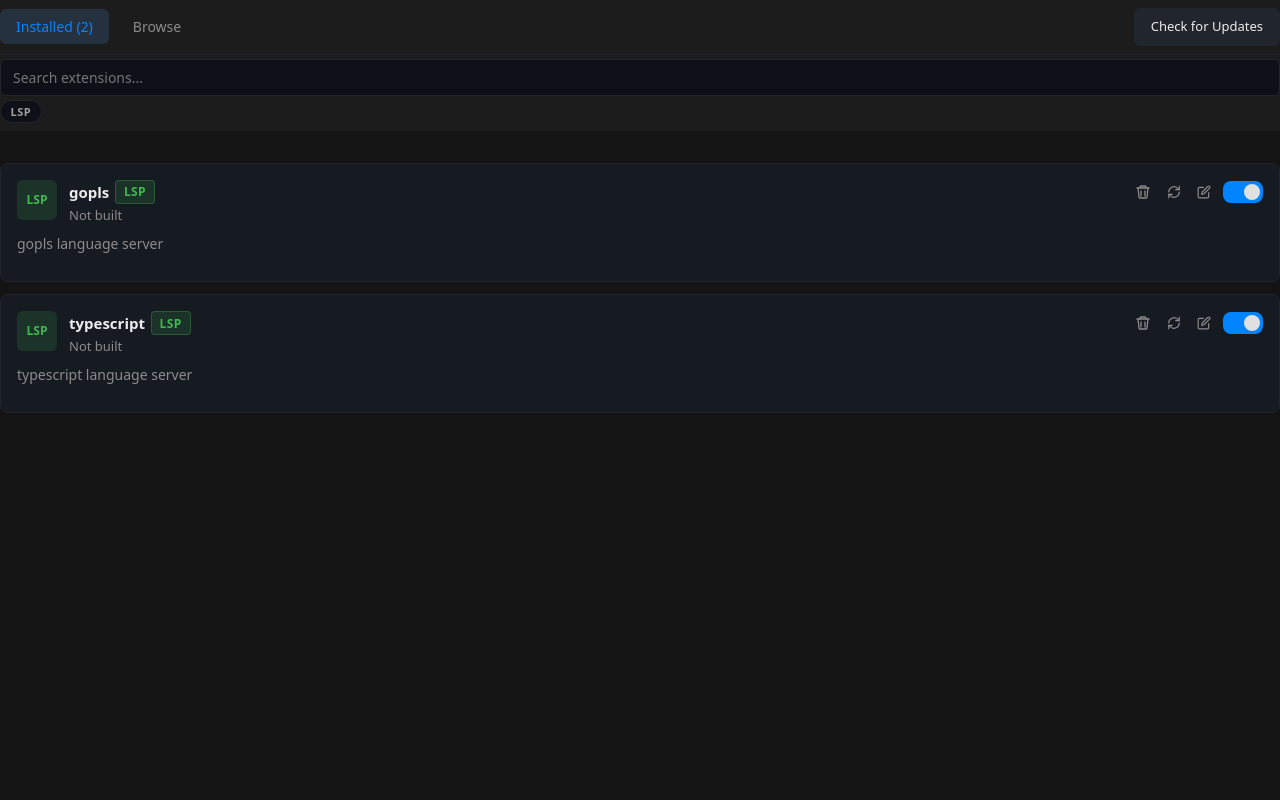
Scenario: Settings → Extensions: the dialog that names the directory › revokes by clearing the field and saving — an empty path is a decision
Expected: the text "gopls" is shown, left=69, top=180, right=109, bottom=203
Click the 1st button named "Edit" at (1204, 192), box left=1193, top=181, right=1215, bottom=203
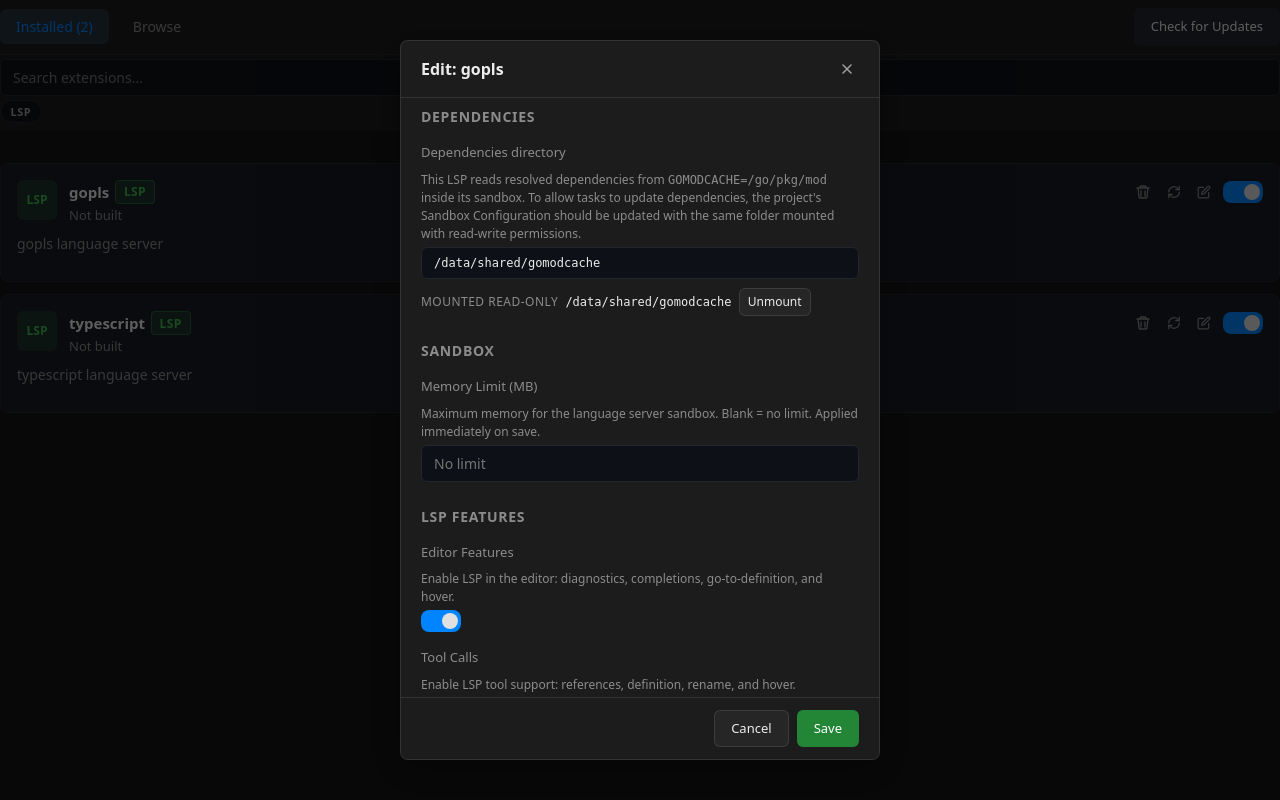
Expected: the field with id "edit-dep-path" is shown, left=421, top=246, right=859, bottom=278
Expected: the text with class "ext-dep-path" reads "/data/shared/gomodcache", left=565, top=295, right=732, bottom=309
Click the button "Unmount" at (775, 302), box left=739, top=288, right=810, bottom=316
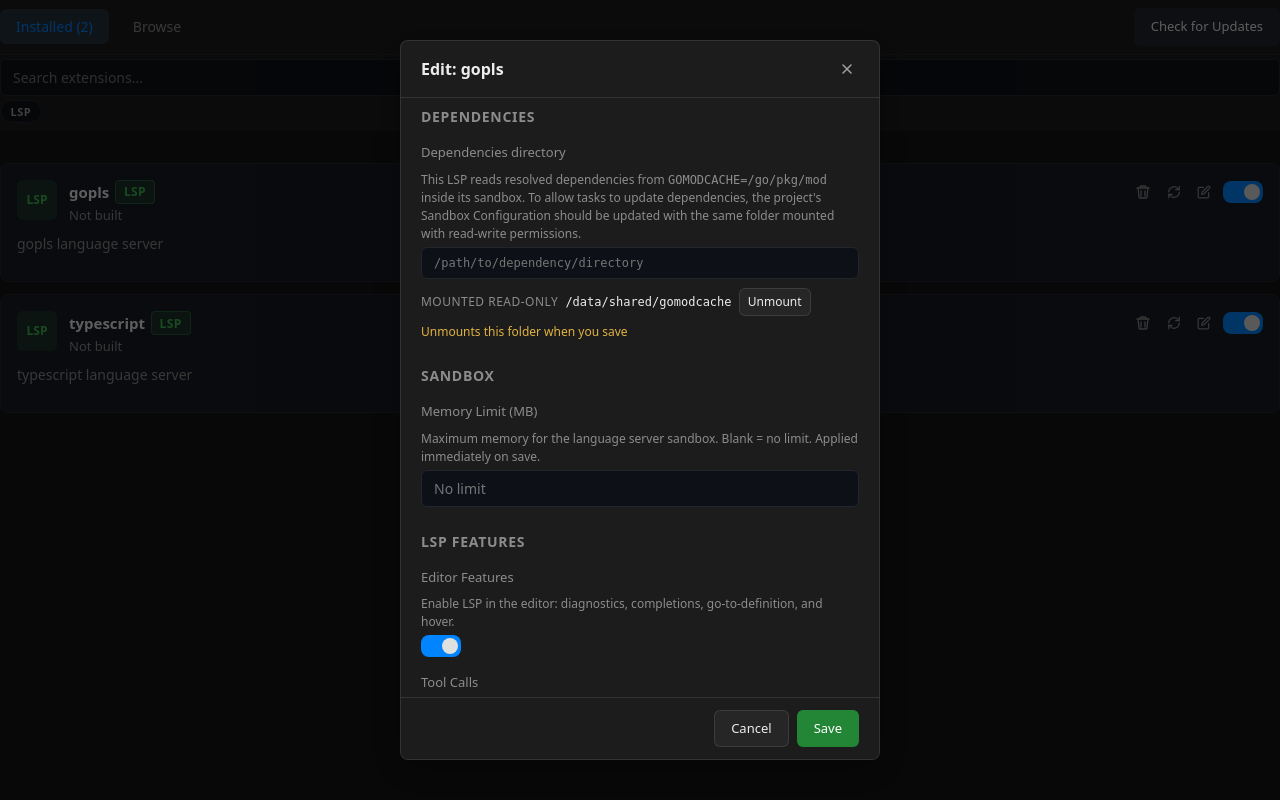
Click the button "Save" at (828, 728), box left=797, top=710, right=859, bottom=747
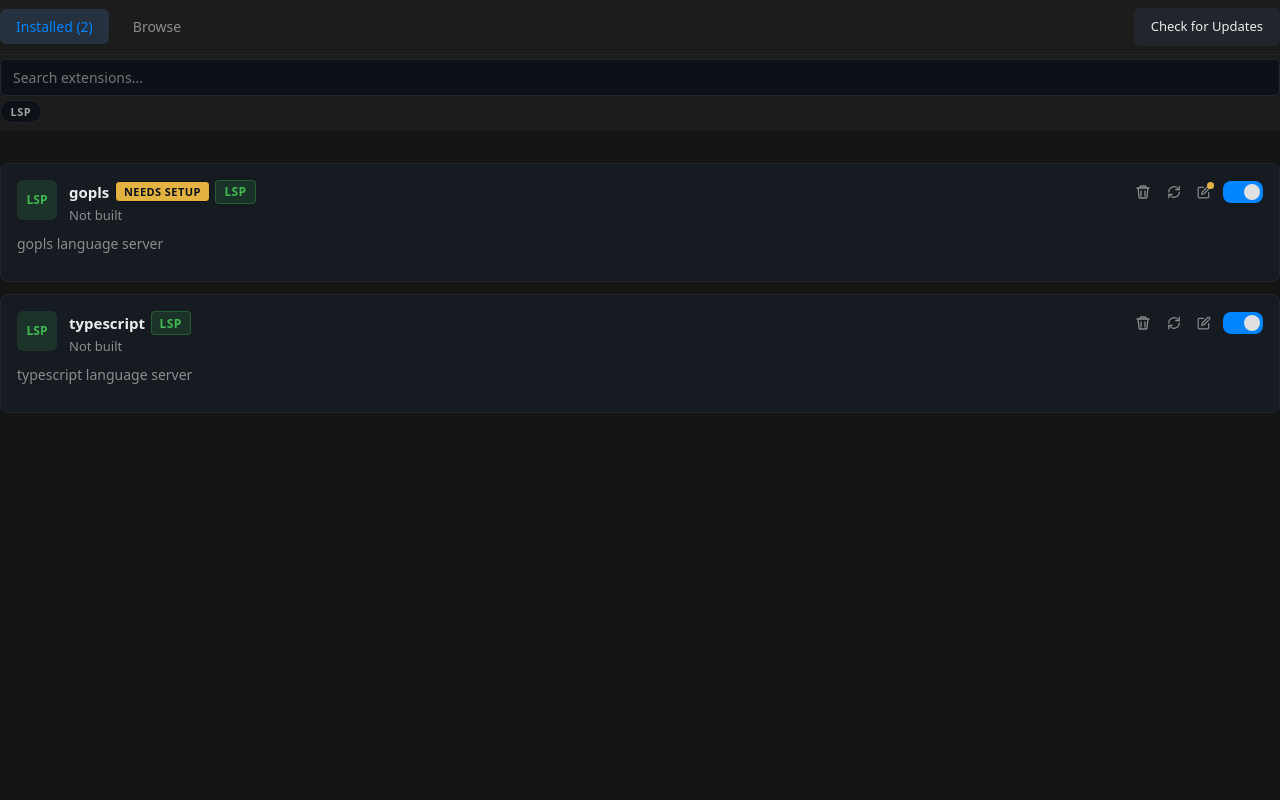
Expected: the button "Needs setup" is shown, left=115, top=181, right=210, bottom=202
